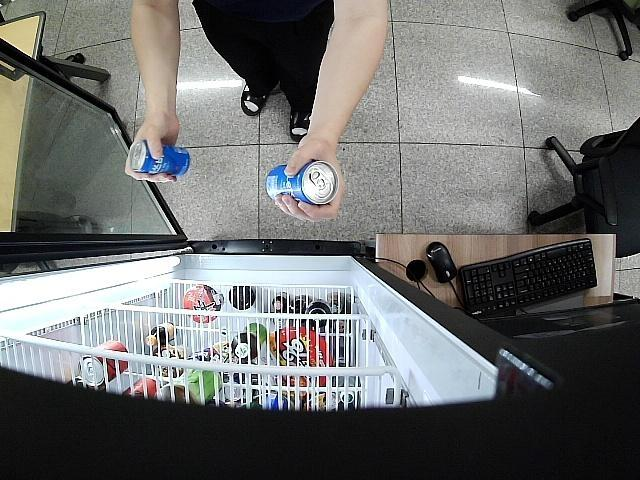15_letsbe: (266, 160, 338, 207), (129, 139, 190, 177)
